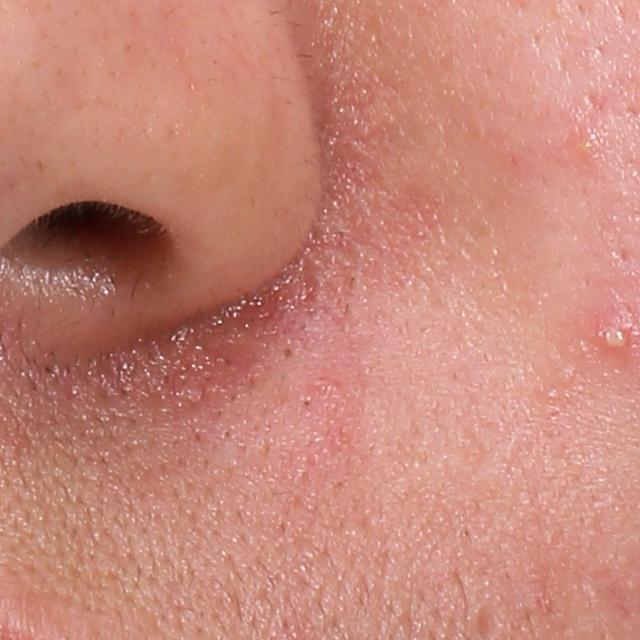comedo: (277, 339, 295, 363)
pustule: (593, 320, 630, 362)
